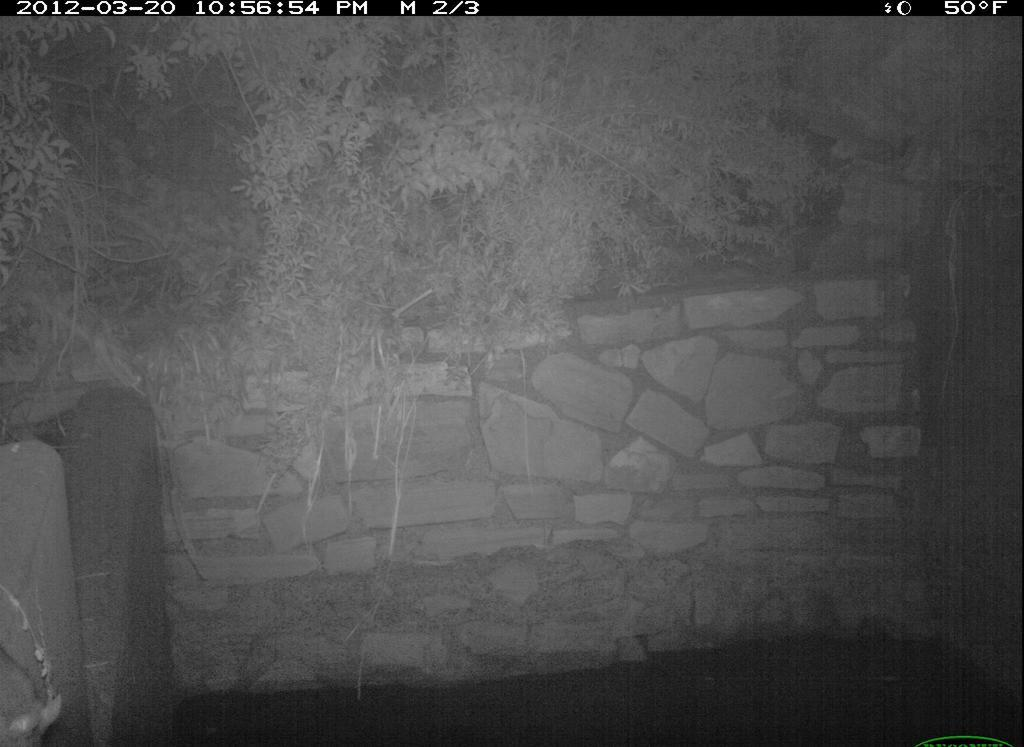rodent: (1, 625, 74, 747)
